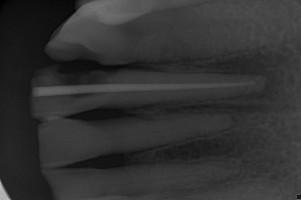Furcation Involvement: (207, 57, 280, 99)
